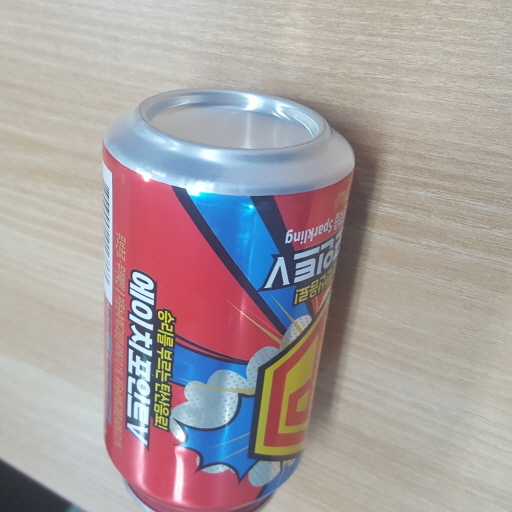Metal_0: (99, 88, 358, 512)
